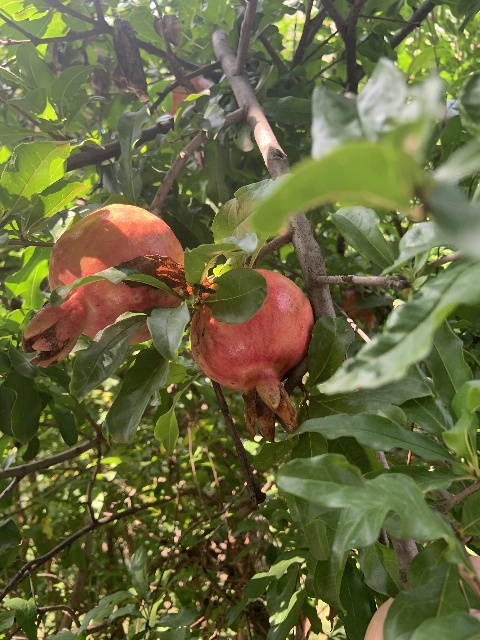ripe: (20, 203, 184, 366), (190, 269, 313, 441)
